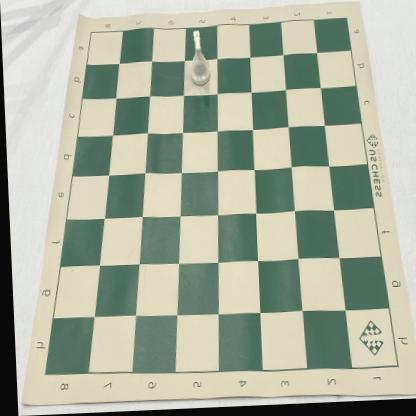white-knight: (187, 31, 211, 89)
